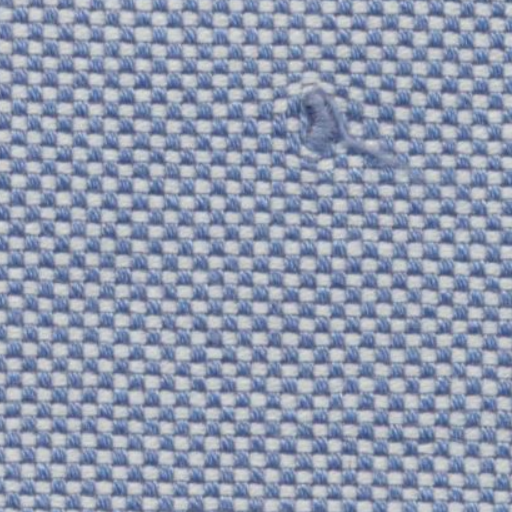MianQiu: (261, 62, 404, 190)
